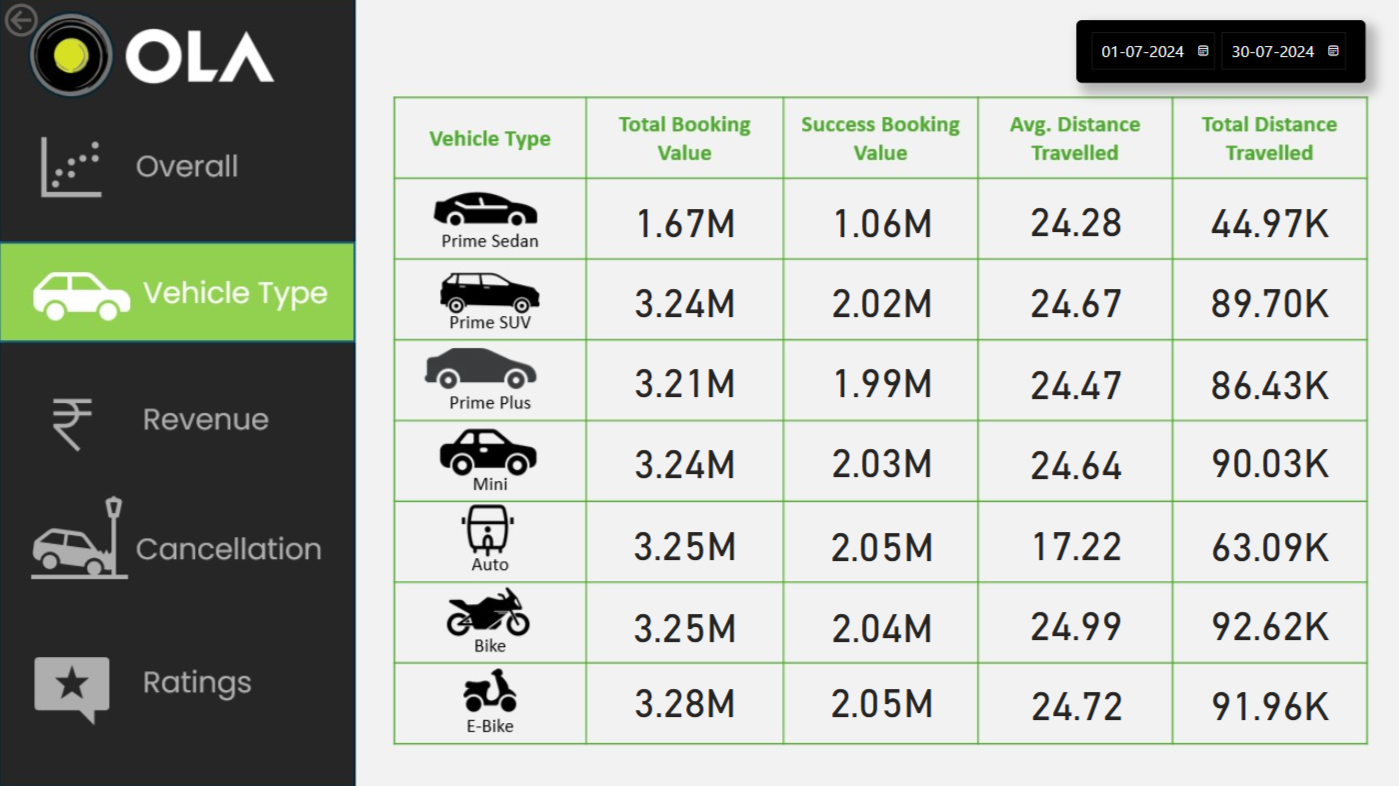

The dashboard page shown, as its layout file describes it:
{"tool":"powerbi","page":{"name":"Veichle Type","canvas":[1280,720],"ordinal":1},"visuals":[{"type":"actionButton","box":[0,221.3,324.4,96],"z":0},{"type":"actionButton","box":[0,335.1,324.4,96],"z":1000},{"type":"actionButton","box":[0,447.1,324.4,96],"z":2000},{"type":"actionButton","box":[0,578.7,324.4,96],"z":3000},{"type":"actionButton","box":[0,104.9,324.4,96],"z":4000},{"type":"card","fields":{"Values":["Sum(July.Booking_Value)"]},"box":[534,164,179,75],"z":5000},{"type":"card","fields":{"Values":["Sum(July.Booking_Value)"]},"box":[534,239,179,70],"z":6000},{"type":"card","fields":{"Values":["Sum(July.Booking_Value)"]},"box":[534,309,179,75],"z":7000},{"type":"card","fields":{"Values":["Sum(July.Booking_Value)"]},"box":[534,383,179,75],"z":8000},{"type":"card","fields":{"Values":["Sum(July.Booking_Value)"]},"box":[534,457,179,75],"z":9000},{"type":"card","fields":{"Values":["Sum(July.Booking_Value)"]},"box":[534,532,179,75],"z":10000},{"type":"card","fields":{"Values":["Sum(July.Booking_Value)"]},"box":[534,600,179,75],"z":11000},{"type":"card","fields":{"Values":["Sum(July.Booking_Value)"]},"box":[713,164,179,75],"z":12000},{"type":"card","fields":{"Values":["Sum(July.Booking_Value)"]},"box":[713,239,179,70],"z":13000},{"type":"card","fields":{"Values":["Sum(July.Booking_Value)"]},"box":[713,309,179,75],"z":14000},{"type":"card","fields":{"Values":["Sum(July.Booking_Value)"]},"box":[713,382,179,75],"z":15000},{"type":"card","fields":{"Values":["Sum(July.Booking_Value)"]},"box":[713,458,179,75],"z":16000},{"type":"card","fields":{"Values":["Sum(July.Booking_Value)"]},"box":[713,532,179,75],"z":17000},{"type":"card","fields":{"Values":["Sum(July.Booking_Value)"]},"box":[713,600,179,75],"z":18000},{"type":"card","fields":{"Values":["Avg(July.Ride_Distance)"]},"box":[889,163,179,75],"z":19000},{"type":"actionButton","box":[0,0,100,40],"z":20000},{"type":"card","fields":{"Values":["Avg(July.Ride_Distance)"]},"box":[889,236,179,75],"z":21000},{"type":"card","fields":{"Values":["Avg(July.Ride_Distance)"]},"box":[889,311,179,75],"z":22000},{"type":"card","fields":{"Values":["Avg(July.Ride_Distance)"]},"box":[889,384,179,75],"z":23000},{"type":"card","fields":{"Values":["Avg(July.Ride_Distance)"]},"box":[889,457,179,75],"z":24000},{"type":"card","fields":{"Values":["Avg(July.Ride_Distance)"]},"box":[889,530,179,75],"z":25000},{"type":"card","fields":{"Values":["Avg(July.Ride_Distance)"]},"box":[890,603,179,75],"z":26000},{"type":"card","fields":{"Values":["Sum(July.Ride_Distance)"]},"box":[1065,164,179,75],"z":27000},{"type":"card","fields":{"Values":["Sum(July.Ride_Distance)"]},"box":[1065,236,179,75],"z":28000},{"type":"card","fields":{"Values":["Sum(July.Ride_Distance)"]},"box":[1065,311,179,75],"z":29000},{"type":"card","fields":{"Values":["Sum(July.Ride_Distance)"]},"box":[1065,382,179,75],"z":30000},{"type":"card","fields":{"Values":["Sum(July.Ride_Distance)"]},"box":[1065,458,179,75],"z":31000},{"type":"card","fields":{"Values":["Sum(July.Ride_Distance)"]},"box":[1065,530,179,75],"z":32000},{"type":"card","fields":{"Values":["Sum(July.Ride_Distance)"]},"box":[1065,603,179,75],"z":33000},{"type":"slicer","title":"Date","fields":{"Values":["July.Date"]},"box":[979,20,263,57],"z":34000}]}

Visuals, with their boxes on the page's 1280x720 design canvas (x1, y1, x2, y2). These are canvas units, not pixel positions in the 1399x786 screenshot, which may show the page scaled, cropped or inside an application window:
actionButton: 0, 221, 324, 317
actionButton: 0, 335, 324, 431
actionButton: 0, 447, 324, 543
actionButton: 0, 579, 324, 675
actionButton: 0, 105, 324, 201
card - Sum(July.Booking_Value): 534, 164, 713, 239
card - Sum(July.Booking_Value): 534, 239, 713, 309
card - Sum(July.Booking_Value): 534, 309, 713, 384
card - Sum(July.Booking_Value): 534, 383, 713, 458
card - Sum(July.Booking_Value): 534, 457, 713, 532
card - Sum(July.Booking_Value): 534, 532, 713, 607
card - Sum(July.Booking_Value): 534, 600, 713, 675
card - Sum(July.Booking_Value): 713, 164, 892, 239
card - Sum(July.Booking_Value): 713, 239, 892, 309
card - Sum(July.Booking_Value): 713, 309, 892, 384
card - Sum(July.Booking_Value): 713, 382, 892, 457
card - Sum(July.Booking_Value): 713, 458, 892, 533
card - Sum(July.Booking_Value): 713, 532, 892, 607
card - Sum(July.Booking_Value): 713, 600, 892, 675
card - Avg(July.Ride_Distance): 889, 163, 1068, 238
actionButton: 0, 0, 100, 40
card - Avg(July.Ride_Distance): 889, 236, 1068, 311
card - Avg(July.Ride_Distance): 889, 311, 1068, 386
card - Avg(July.Ride_Distance): 889, 384, 1068, 459
card - Avg(July.Ride_Distance): 889, 457, 1068, 532
card - Avg(July.Ride_Distance): 889, 530, 1068, 605
card - Avg(July.Ride_Distance): 890, 603, 1069, 678
card - Sum(July.Ride_Distance): 1065, 164, 1244, 239
card - Sum(July.Ride_Distance): 1065, 236, 1244, 311
card - Sum(July.Ride_Distance): 1065, 311, 1244, 386
card - Sum(July.Ride_Distance): 1065, 382, 1244, 457
card - Sum(July.Ride_Distance): 1065, 458, 1244, 533
card - Sum(July.Ride_Distance): 1065, 530, 1244, 605
card - Sum(July.Ride_Distance): 1065, 603, 1244, 678
"Date" slicer: 979, 20, 1242, 77
